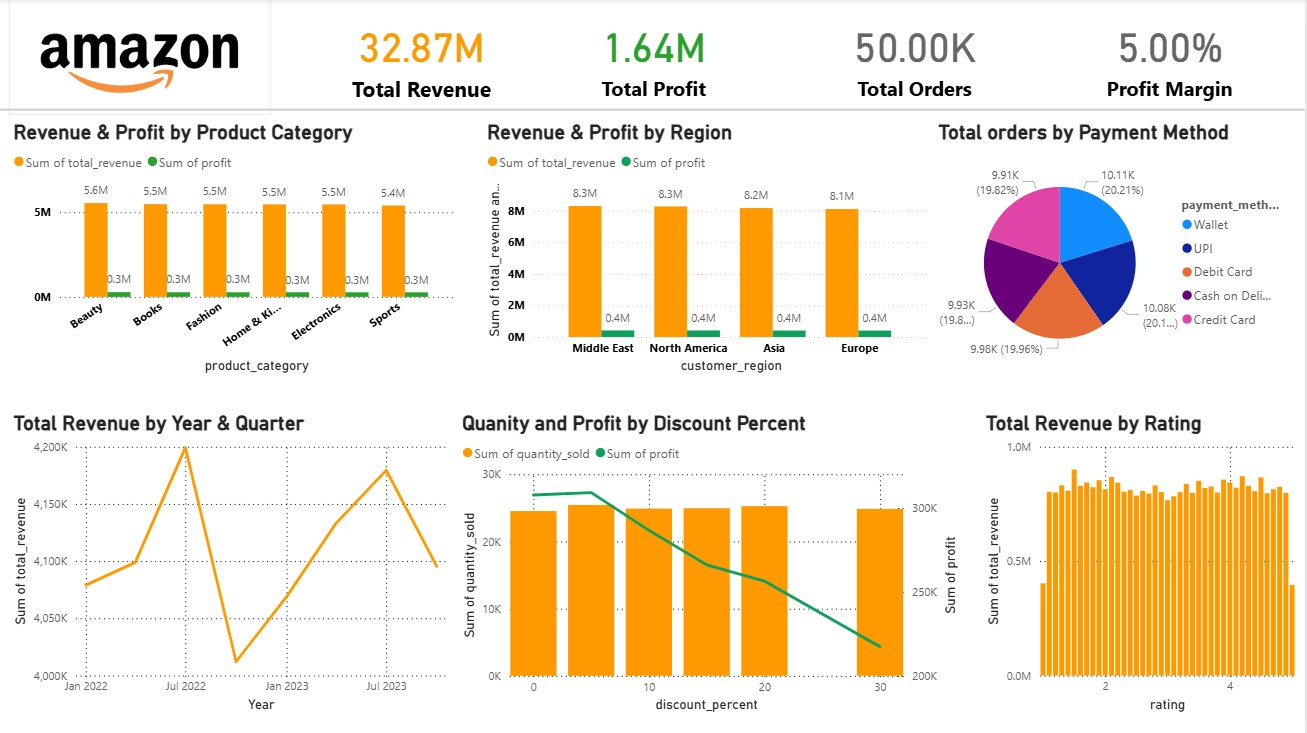

What the dashboard file says about the page in this screenshot:
{"tool":"powerbi","page":{"name":"Page 1","canvas":[1400,800],"ordinal":0},"visuals":[{"type":"image","box":[9.6,0,279.9,124.9],"z":0},{"type":"card","fields":{"Values":["Sum(cleaned_dataset.total_revenue)"]},"box":[312.9,0,279.9,124.9],"z":1000},{"type":"card","fields":{"Values":["Sum(cleaned_dataset.profit)"]},"box":[561.3,0,279.2,124.6],"z":2000},{"type":"card","fields":{"Values":["CountNonNull(cleaned_dataset.order_id)"]},"box":[840.5,0,280.7,124.6],"z":3000},{"type":"clusteredColumnChart","title":"Revenue & Profit by Product Category","fields":{"Category":["cleaned_dataset.product_category"],"Y":["Sum(cleaned_dataset.total_revenue)","Sum(cleaned_dataset.profit)"]},"box":[9,130.6,481.8,276.2],"z":4000},{"type":"clusteredColumnChart","title":"Revenue & Profit by Region","fields":{"Category":["cleaned_dataset.customer_region"],"Y":["Sum(cleaned_dataset.total_revenue)","Sum(cleaned_dataset.profit)"]},"box":[517.8,130.6,483.3,276.2],"z":5000},{"type":"lineClusteredColumnComboChart","title":"Quanity and Profit by Discount Percent","fields":{"Category":["cleaned_dataset.discount_percent"],"Y":["Sum(cleaned_dataset.quantity_sold)"],"Y2":["Sum(cleaned_dataset.profit)"]},"box":[490.8,442.8,541.8,327.2],"z":6000},{"type":"card","fields":{"Values":["cleaned_dataset.Profit Margin"]},"box":[1113.6,0,280.7,124.6],"z":7000},{"type":"lineChart","title":"Total Revenue by Year & Quarter","fields":{"Category":["cleaned_dataset.order_date.Variation.Date Hierarchy.Year","cleaned_dataset.order_date.Variation.Date Hierarchy.Quarter"],"Y":["Sum(cleaned_dataset.total_revenue)"]},"box":[9,442.8,486.3,327.2],"z":8000},{"type":"pieChart","title":"Total orders by Payment Method","fields":{"Y":["CountNonNull(cleaned_dataset.order_id)"],"Category":["cleaned_dataset.payment_method"]},"box":[1001.1,130.6,382.7,282.2],"z":9000},{"type":"columnChart","title":"Total Revenue by Rating","fields":{"Category":["cleaned_dataset.rating"],"Y":["Sum(cleaned_dataset.total_revenue)"]},"box":[1052.1,442.8,342.2,327.2],"z":10000},{"type":"shape","box":[0,112.6,1400.3,12],"z":11000}]}

Visuals, with their boxes in screenshot pixels (x1, y1, x2, y2), scaled from the page's 1400x800 canvas onto the 1307x733 screenshot:
image: box(9, 0, 270, 114)
card - Sum(cleaned_dataset.total_revenue): box(292, 0, 553, 114)
card - Sum(cleaned_dataset.profit): box(524, 0, 785, 114)
card - CountNonNull(cleaned_dataset.order_id): box(785, 0, 1047, 114)
"Revenue & Profit by Product Category" clusteredColumnChart: box(8, 120, 458, 373)
"Revenue & Profit by Region" clusteredColumnChart: box(483, 120, 935, 373)
"Quanity and Profit by Discount Percent" lineClusteredColumnComboChart: box(458, 406, 964, 706)
card - cleaned_dataset.Profit Margin: box(1040, 0, 1302, 114)
"Total Revenue by Year & Quarter" lineChart: box(8, 406, 462, 706)
"Total orders by Payment Method" pieChart: box(935, 120, 1292, 378)
"Total Revenue by Rating" columnChart: box(982, 406, 1302, 706)
shape: box(0, 103, 1306, 114)
